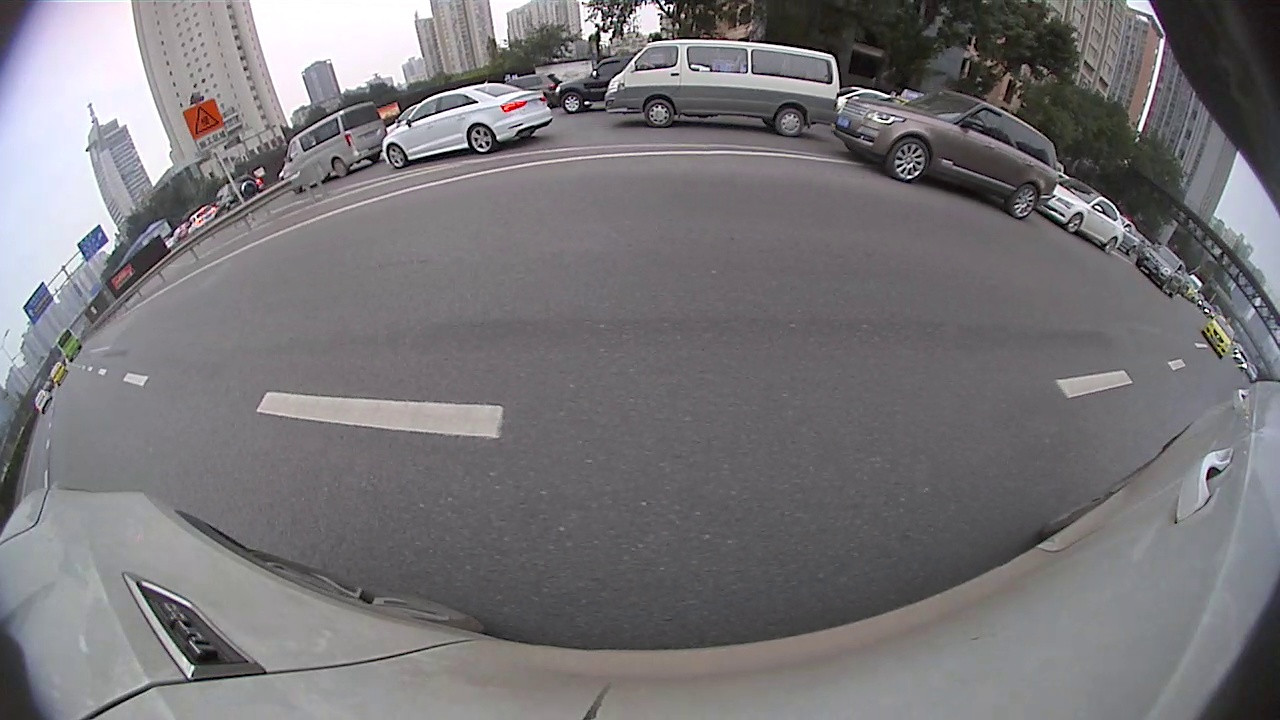car: (833, 88, 1060, 221), (602, 37, 841, 139), (381, 82, 554, 169), (278, 101, 388, 194), (1031, 177, 1126, 255), (552, 56, 671, 116), (1135, 244, 1186, 301), (1201, 314, 1237, 360)
front: (888, 139, 929, 181), (645, 101, 672, 129), (387, 144, 405, 168), (563, 95, 582, 112), (1067, 214, 1083, 231)
rear: (1007, 183, 1039, 219), (468, 127, 496, 153), (775, 111, 803, 136), (334, 158, 347, 177), (1104, 240, 1117, 253)
